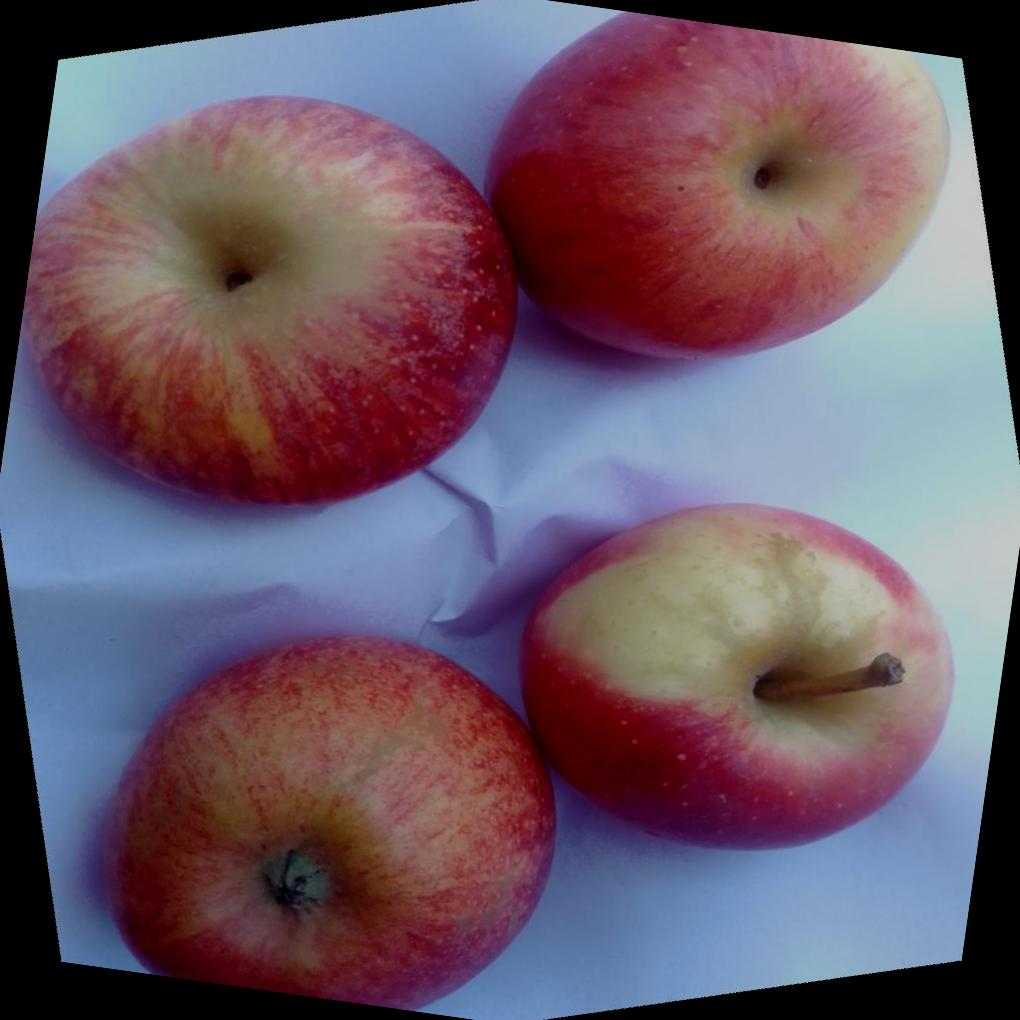FreshGuava: (18, 11, 953, 514), (103, 503, 958, 1013)
